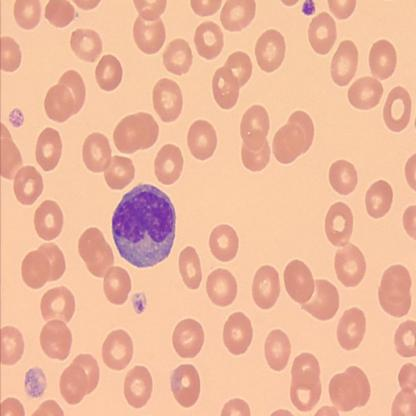Monocyte: (110, 180, 178, 270)
